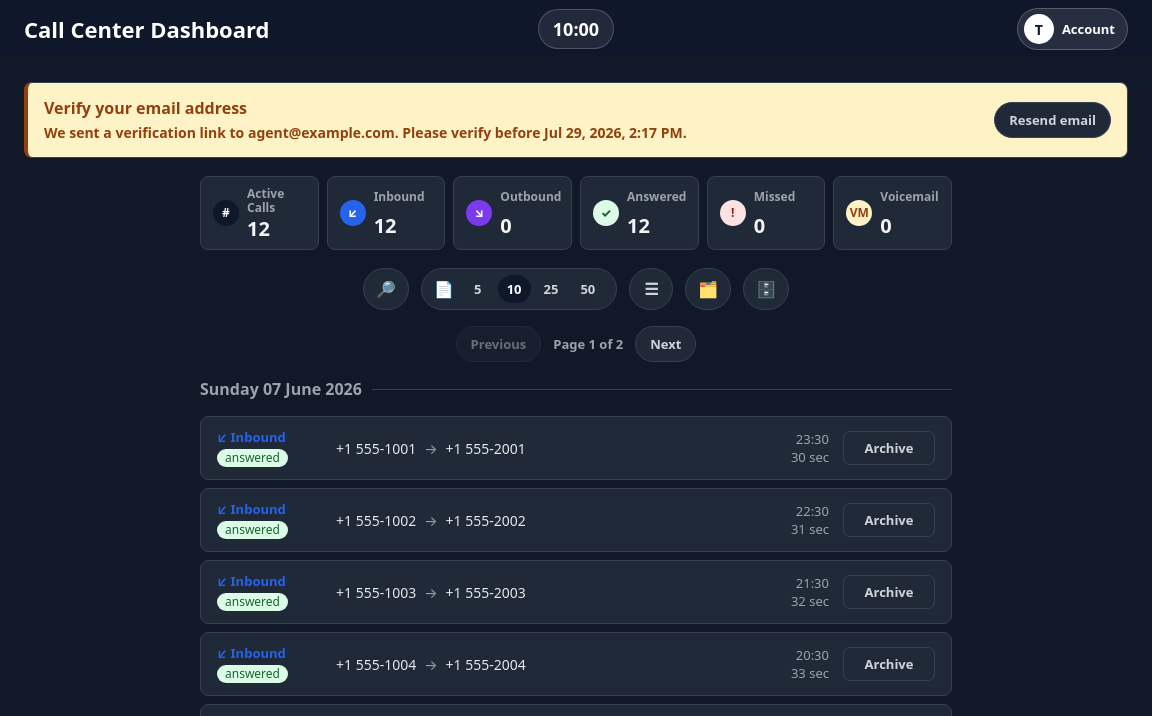
Test: App API-backed user flows › preserves the current page when realtime updates still have that page
The image size is (1152, 716).
Expected: the text "+1 555-1001" is shown, [336,439,416,458]
Click the button named "Show 5 calls per page". click: (478, 289)
box: [462,275,494,303]
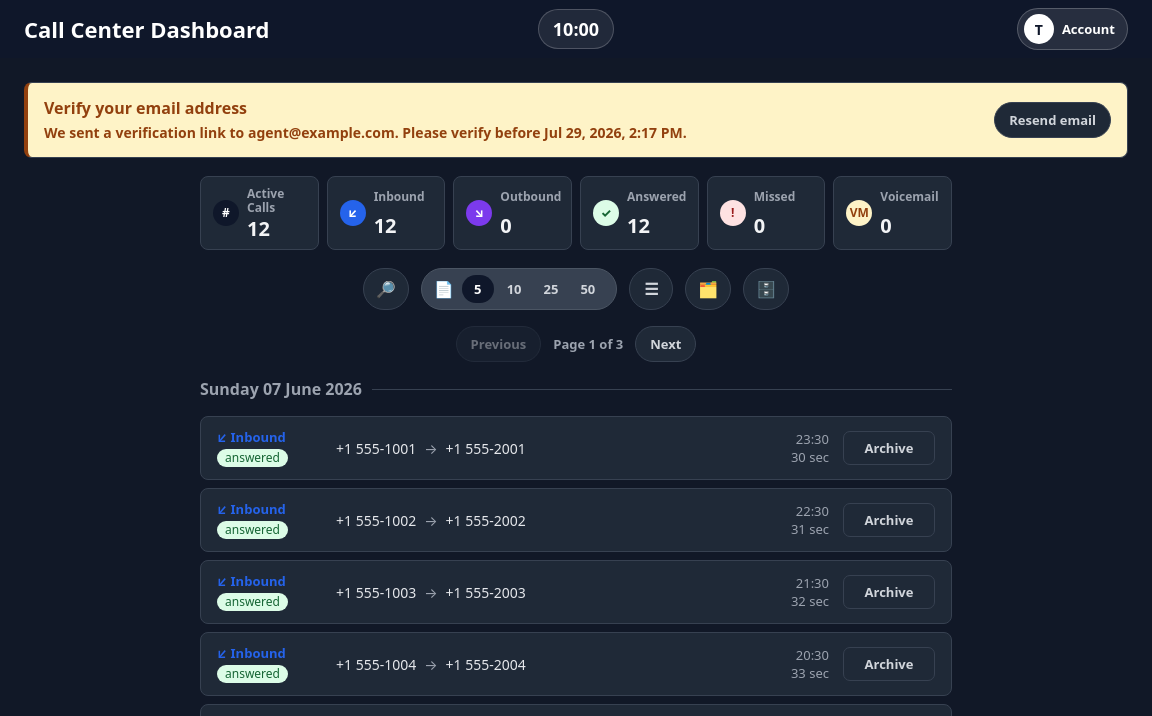
Click the button with aria-label "Go to next page". click: (666, 344)
box: [635,326,696,362]
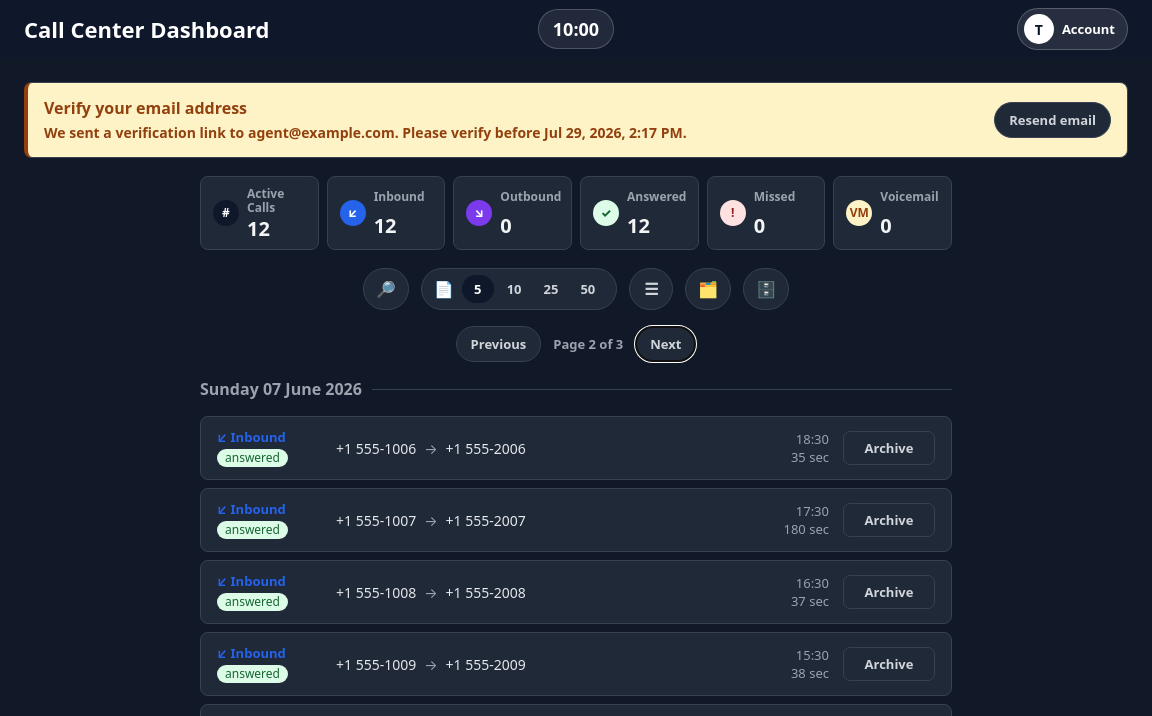
Now the text "Page 2 of 3" is shown, box [553,335,623,353]
